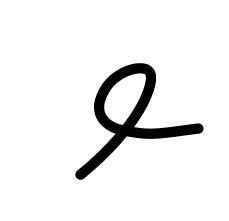o: (80, 57, 219, 151)
